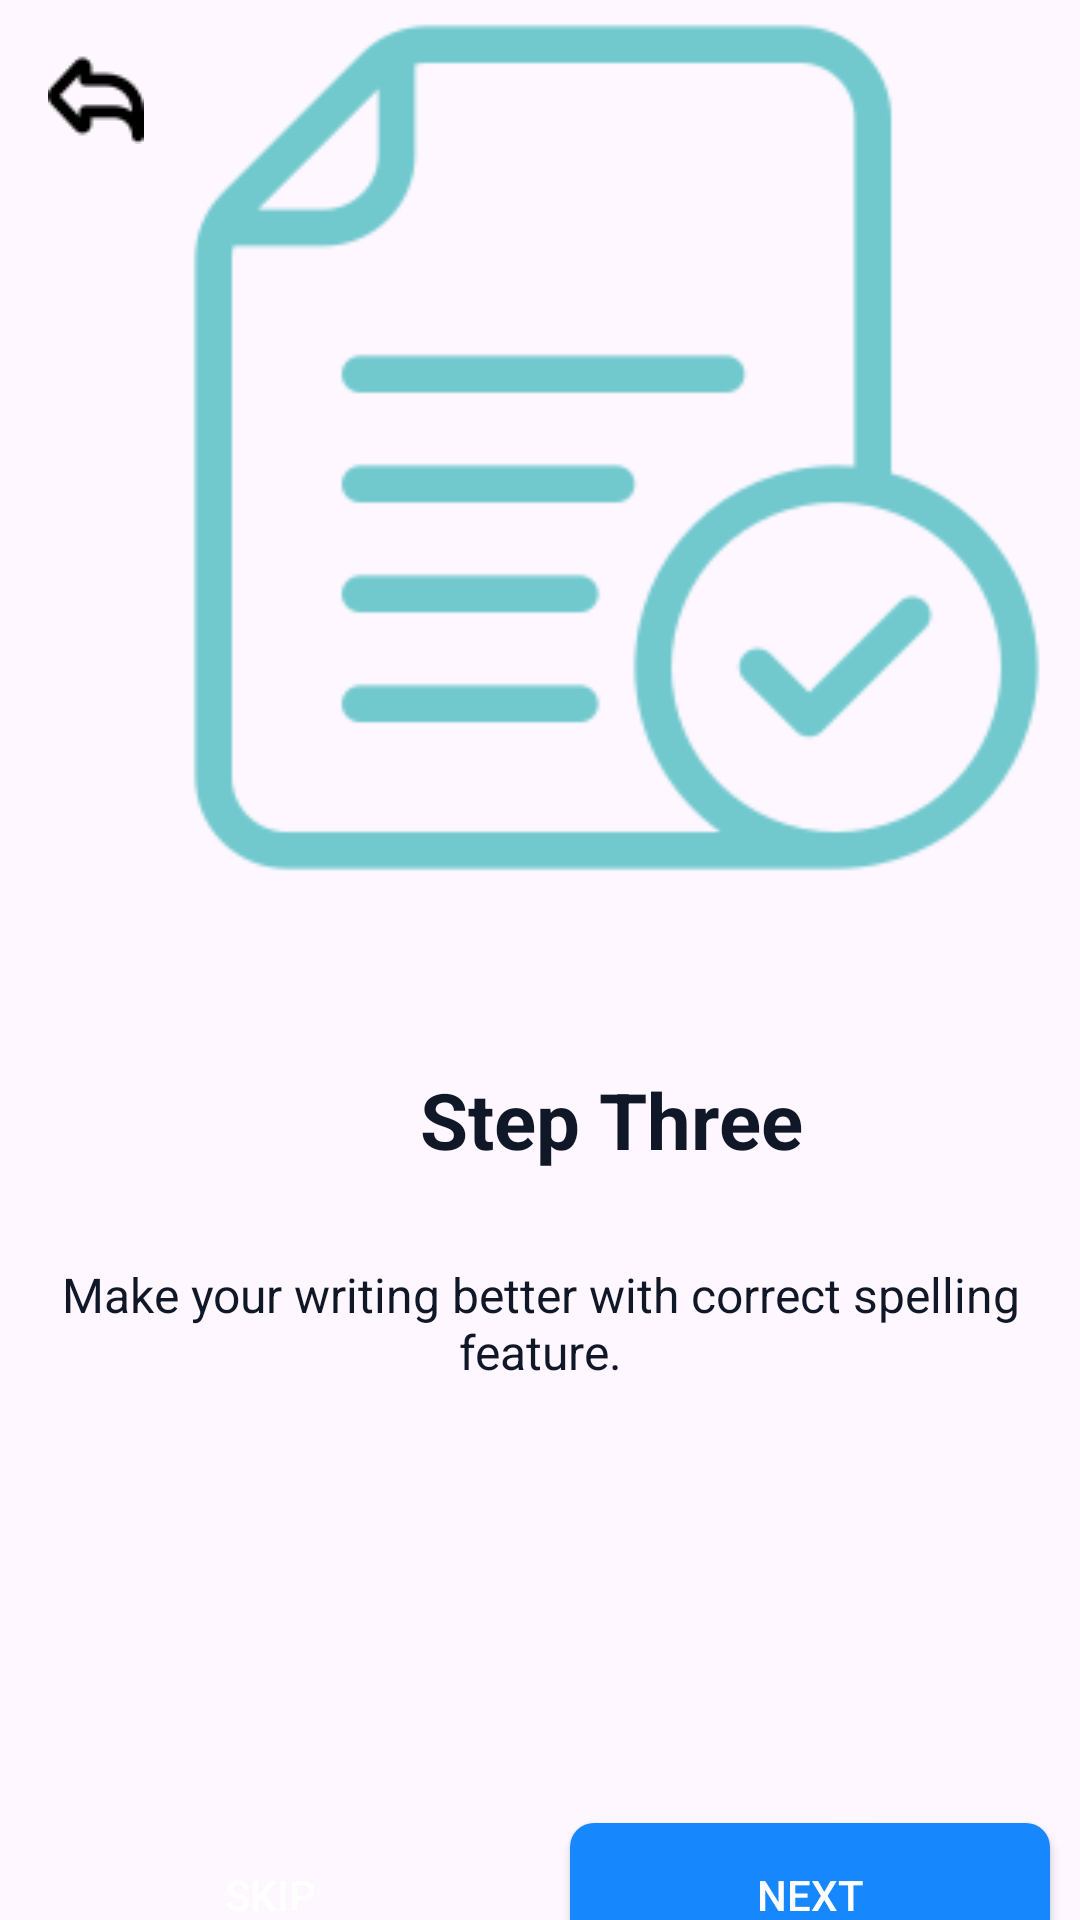

Point at icon controls on the screen. Image size 1080w x 1920h, points as (x,y).
undo: (96,100)
